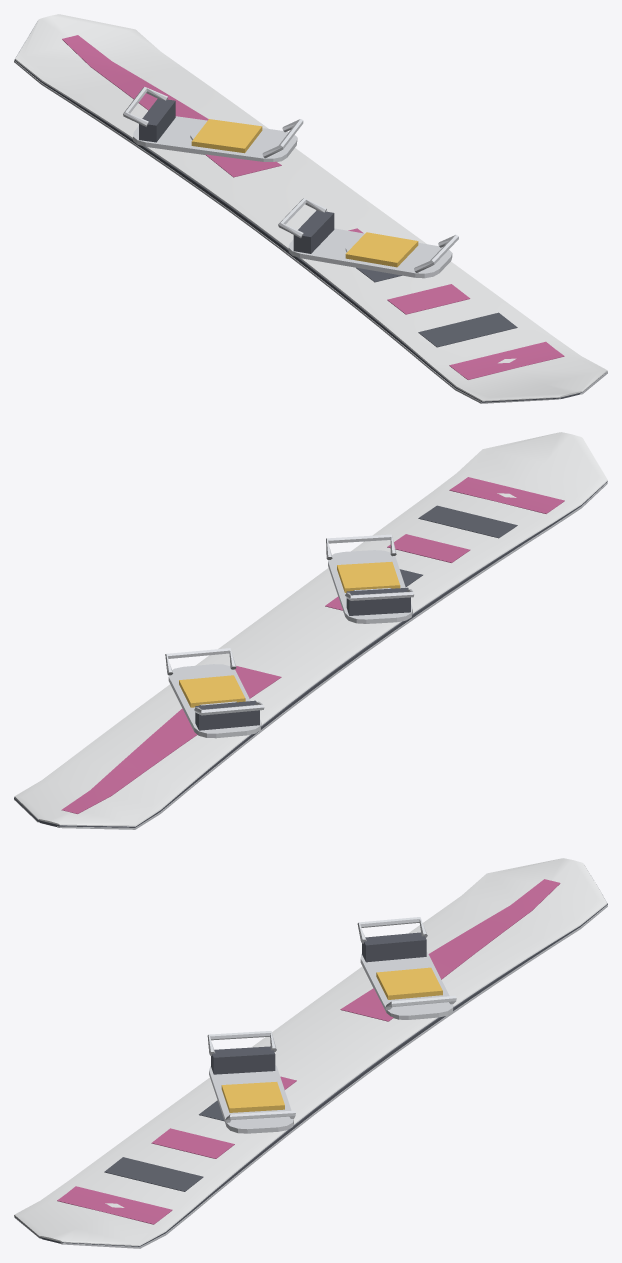
Rendered from snowboard-gear-and-freestyle-riders-alpine-race-board-79fb3a6b__27140.glb.
The picture shows the model from 3 angles, top to bottom: view 1: azimuth 30°, elevation 25°; view 2: azimuth 150°, elevation 25°; view 3: azimuth 330°, elevation 25°; orthographic projection.
Parts seen in each view (by area): view 1: alpine-race-board; view 2: alpine-race-board; view 3: alpine-race-board.
Part boxes in pixels (left/top/right/bottom): alpine-race-board: left=14, top=14, right=607, bottom=403; alpine-race-board: left=14, top=432, right=607, bottom=829; alpine-race-board: left=14, top=858, right=607, bottom=1248.
Bounding box in the file's own units: 0.2599 × 0.0772 × 1.68.
